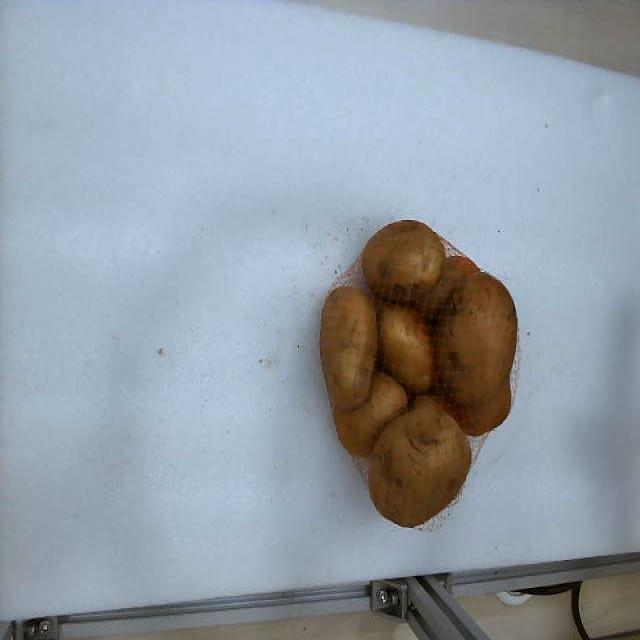potato: (434, 272, 518, 434), (369, 397, 471, 526), (320, 287, 378, 409), (362, 220, 444, 301), (334, 372, 408, 456), (378, 302, 434, 394), (416, 257, 479, 318)
